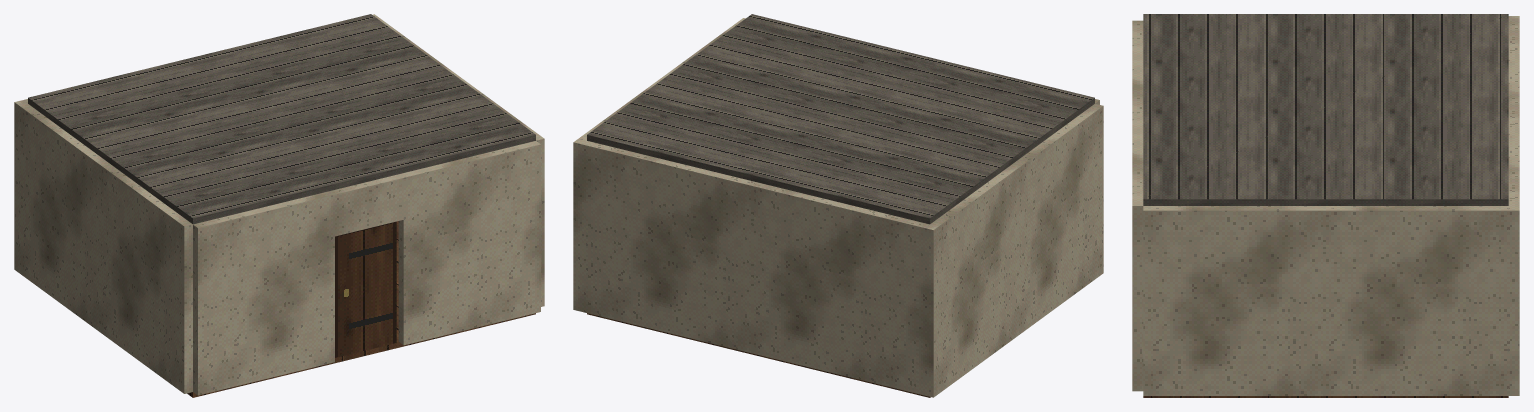
File: interior_casa.obj
The picture shows the model from 3 angles, left to right: view 1: azimuth 30°, elevation 25°; view 2: azimuth 150°, elevation 25°; view 3: azimuth 270°, elevation 25°; orthographic projection. The views are drawn at different scales.
Parts seen in each view (by area): view 1: interior_casa; view 2: interior_casa; view 3: interior_casa.
Part boxes in pixels (x1,y1,x2,y2): interior_casa: [14, 14, 544, 397]; interior_casa: [573, 14, 1103, 397]; interior_casa: [1132, 14, 1519, 397].
Bounding box in the file's own units: 6.3 × 3 × 5.3.
5 materials, 5 textured.
